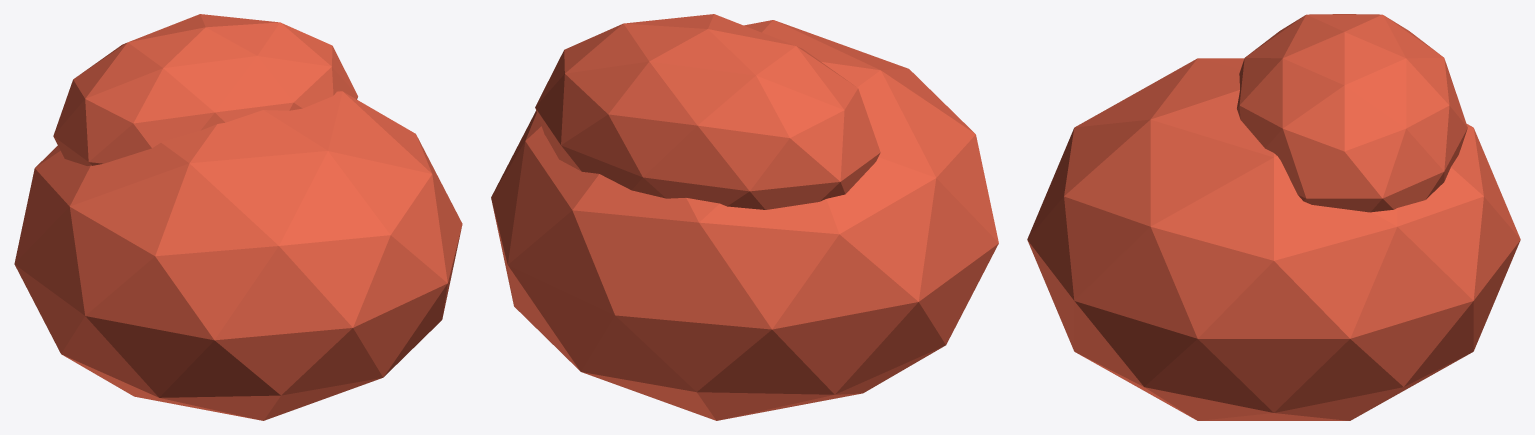
Rendered from beanbag.fbx.
3 renders of one model, left to right at view 1: azimuth 30°, elevation 25°; view 2: azimuth 150°, elevation 25°; view 3: azimuth 270°, elevation 25°, orthographic. The views are drawn at different scales.
Parts seen in each view (by area): view 1: beanbag; view 2: beanbag; view 3: beanbag.
Part boxes in pixels (x1,y1,x2,y2): beanbag: [14, 14, 462, 420]; beanbag: [491, 14, 998, 420]; beanbag: [1027, 14, 1520, 420].
Size of the model in its own units: 0.5326 by 0.4616 by 0.56.
